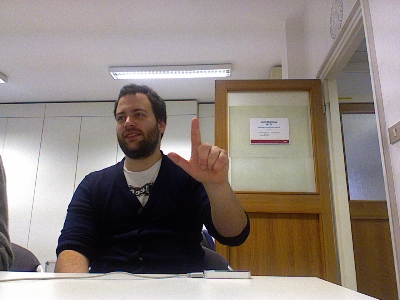枪: (166, 116, 229, 184)
